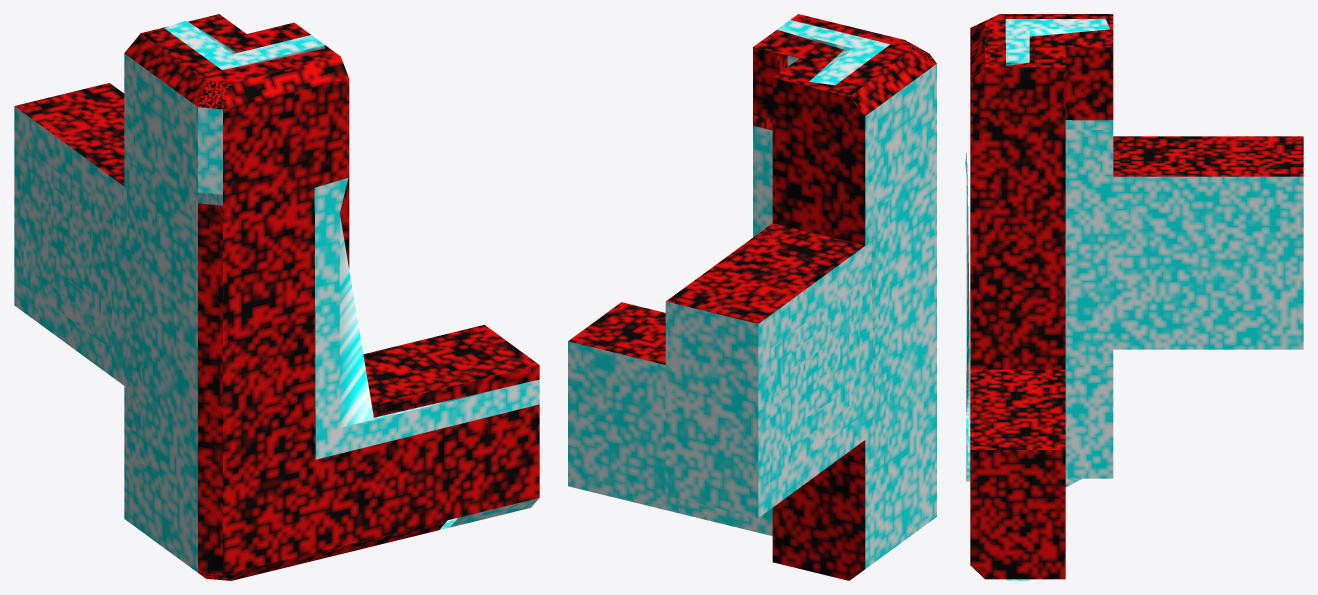
Rendered from SM_MonadBless_Separate_03_GDH.fbx.
3 renders of one model, left to right at view 1: azimuth 30°, elevation 25°; view 2: azimuth 150°, elevation 25°; view 3: azimuth 270°, elevation 25°, orthographic. The views are drawn at different scales.
Parts seen in each view (by area): view 1: SM_MonadBless_Separate_03_GDH; view 2: SM_MonadBless_Separate_03_GDH; view 3: SM_MonadBless_Separate_03_GDH.
Part boxes in pixels (x1,y1,x2,y2): SM_MonadBless_Separate_03_GDH: (14,14,539,580); SM_MonadBless_Separate_03_GDH: (568,14,936,580); SM_MonadBless_Separate_03_GDH: (965,14,1303,580).
Size of the model in its own units: 14.31 by 20.52 by 14.36.
